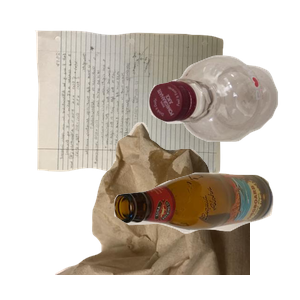glass: (111, 170, 300, 300)
paper: (32, 28, 249, 196)
plastic: (146, 53, 300, 187)
trash: (52, 120, 292, 300)
